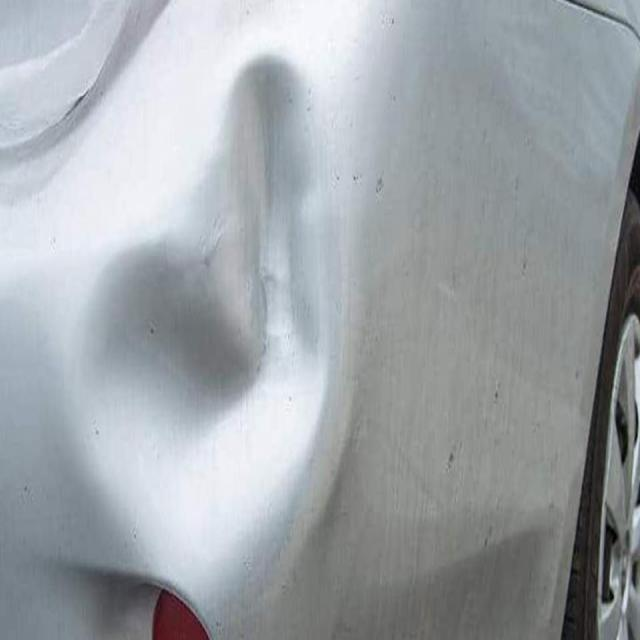dent: (91, 8, 342, 530)
